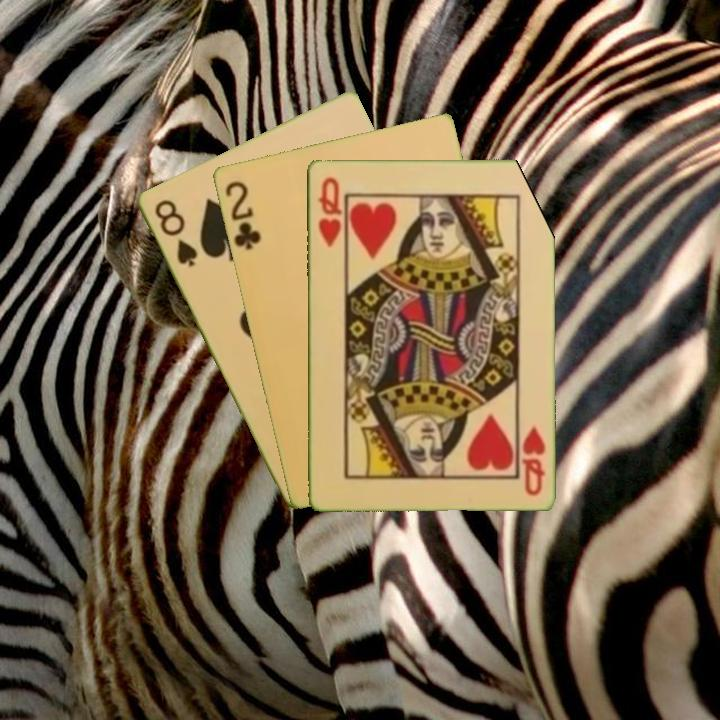2c: (221, 177, 264, 253)
8s: (150, 196, 200, 270)
Qh: (517, 422, 547, 499), (314, 173, 344, 249)
